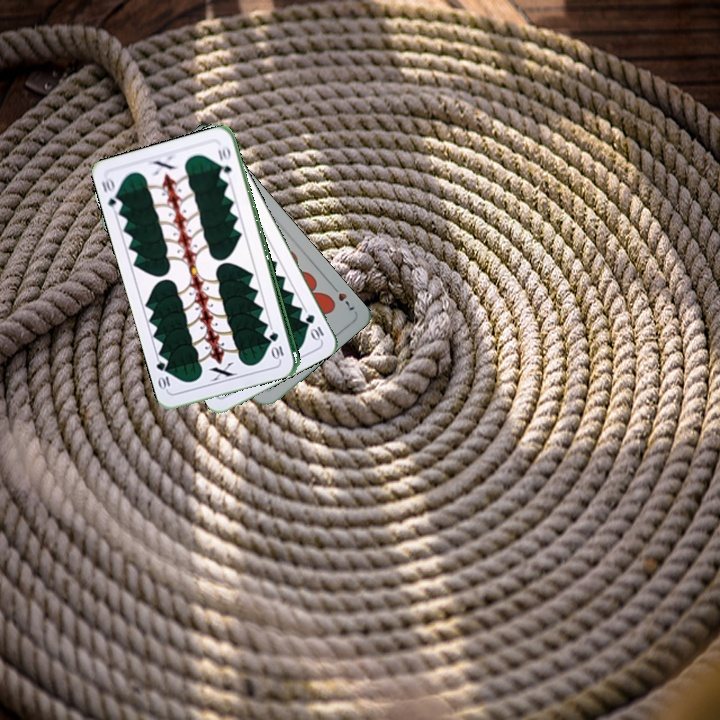G10: (98, 174, 125, 214), (301, 310, 326, 343), (267, 328, 286, 362)
H7: (327, 280, 357, 313)
